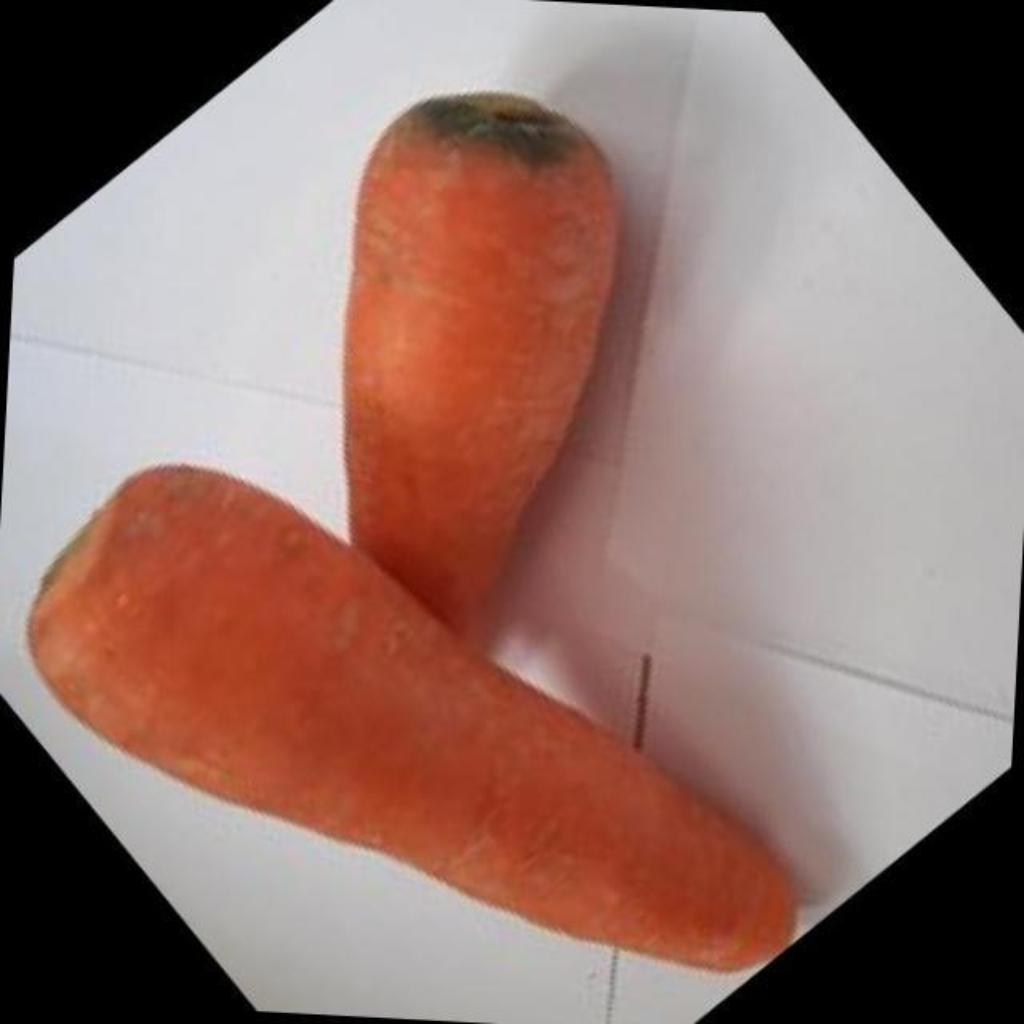carrot: (30, 470, 792, 969), (344, 94, 620, 614)
